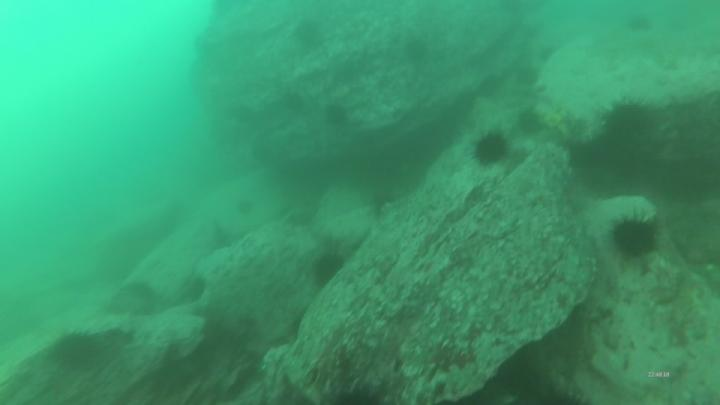echinus: (607, 206, 665, 263), (53, 328, 101, 380), (604, 96, 654, 145), (469, 129, 512, 170), (309, 253, 347, 291), (515, 106, 544, 137), (322, 101, 350, 131), (514, 62, 544, 90), (403, 35, 430, 66), (293, 18, 319, 47), (627, 14, 657, 38), (280, 90, 307, 114), (235, 197, 258, 222)
